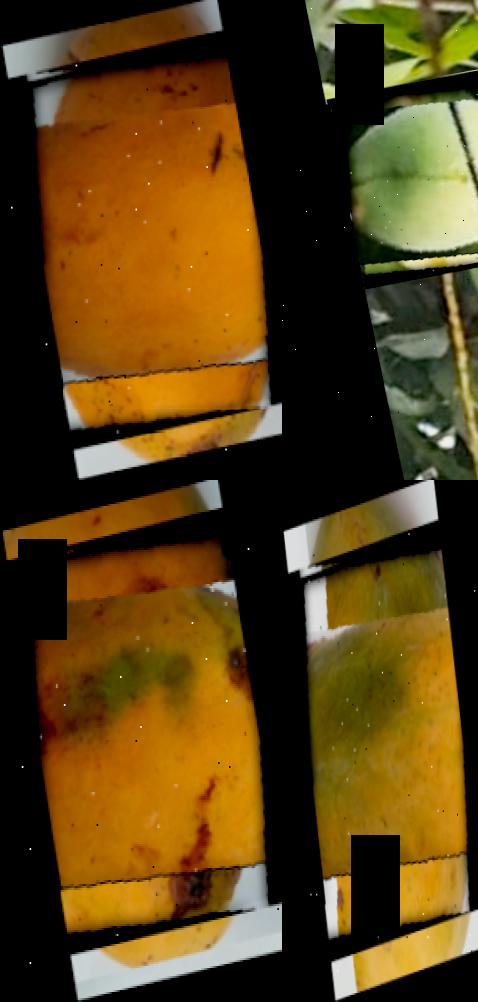PartiallyRipe: (287, 525, 478, 955)
Ripe: (5, 512, 282, 947), (6, 35, 282, 442)
Unripe: (324, 69, 478, 284)
